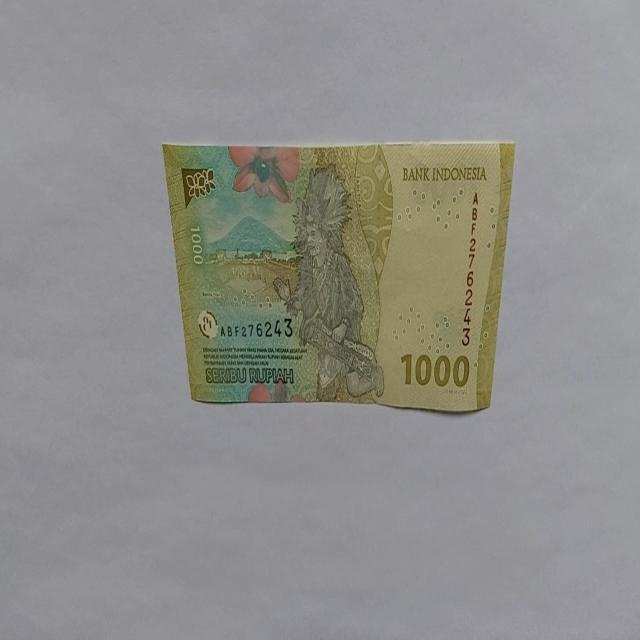seribu rupiah kertas: (160, 138, 516, 412)
